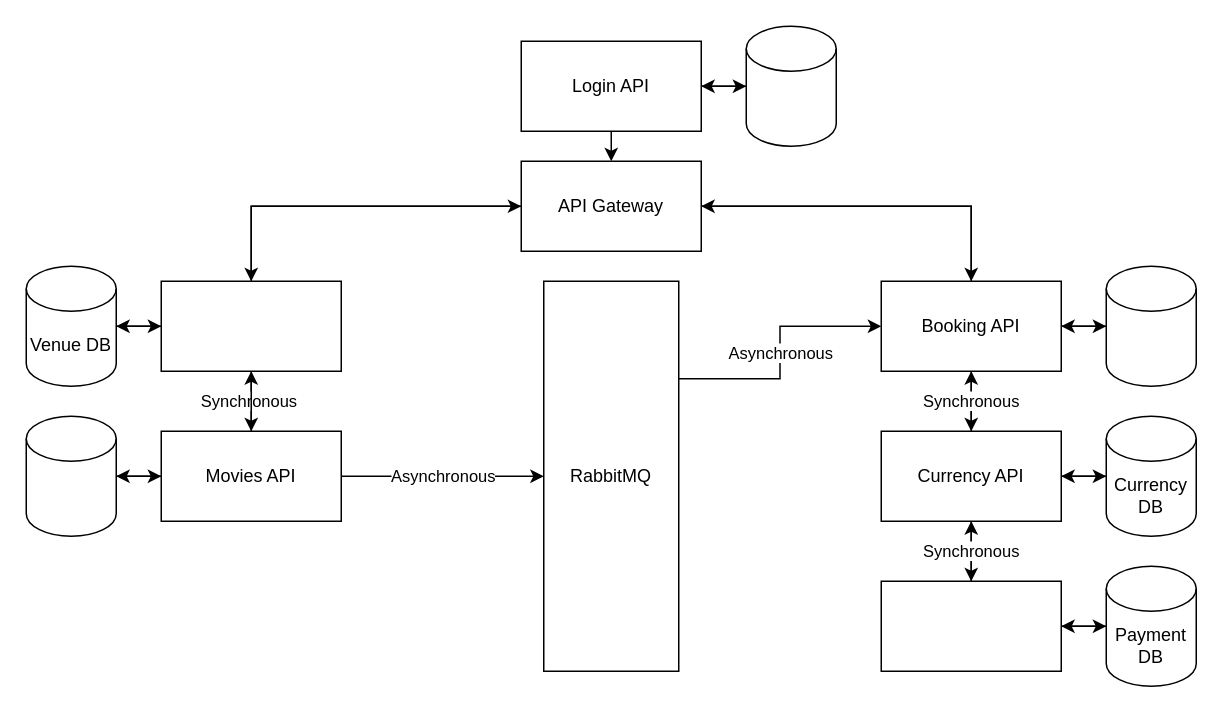
This 1223x713 diagram has some shape labels left out. The centre of each missing label's shape, as x and y in pixels:
"Bookings DB" goes at point (1150, 325).
"Login Account Service" goes at point (790, 85).
"Movies DB" goes at point (70, 475).
"Payment API" goes at point (970, 625).
"Venues API" goes at point (250, 325).
